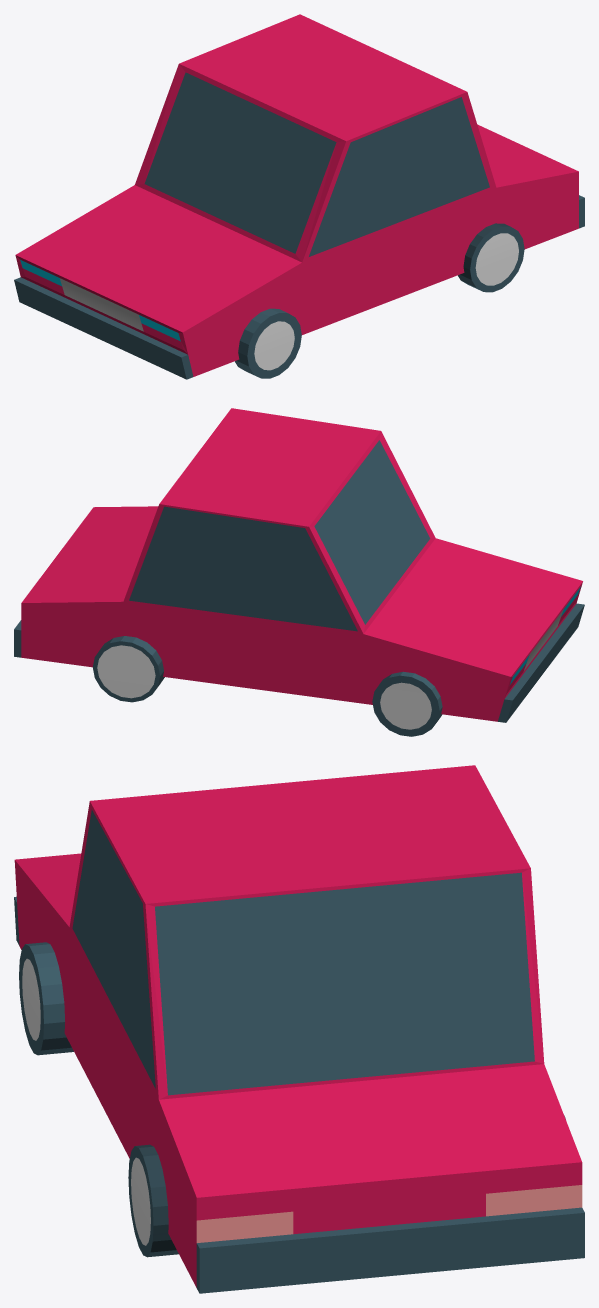
The model's file is car_04_2_2_world_ap_0_lev1.glb.
The picture shows the model from 3 angles, top to bottom: view 1: azimuth 30°, elevation 25°; view 2: azimuth 150°, elevation 25°; view 3: azimuth 270°, elevation 25°; orthographic projection. The views are drawn at different scales.
Parts seen in each view (by area): view 1: car_04_2_2_world_ap_0_lev1; view 2: car_04_2_2_world_ap_0_lev1; view 3: car_04_2_2_world_ap_0_lev1.
Part boxes in pixels (box(x1,y1,x2,y2)): car_04_2_2_world_ap_0_lev1: box(14, 14, 584, 379); car_04_2_2_world_ap_0_lev1: box(14, 408, 584, 736); car_04_2_2_world_ap_0_lev1: box(14, 765, 584, 1293).
Bounding box in the file's own units: 1.58 × 0.6093 × 0.97.
Materials: 1 (1 with a texture image).
